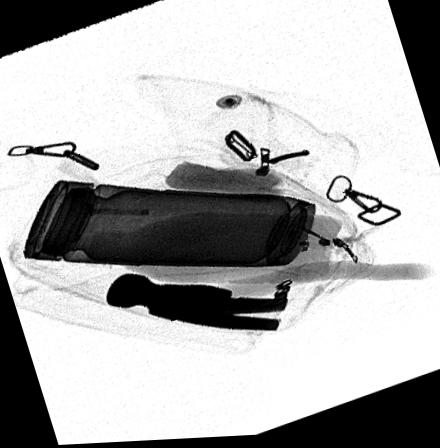Hammer: (104, 262, 422, 335)
